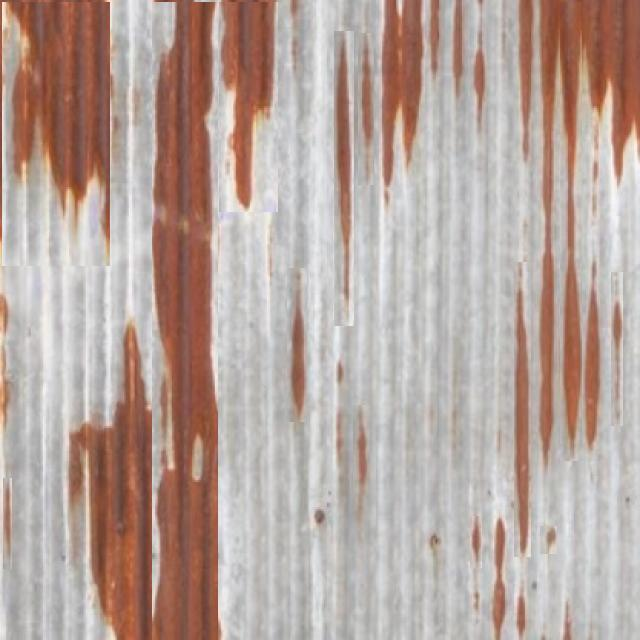Corrosion: (152, 0, 219, 640), (69, 325, 152, 640), (9, 0, 109, 236), (383, 0, 446, 186), (222, 0, 274, 208), (584, 0, 640, 174), (541, 0, 564, 364), (565, 69, 583, 448), (335, 30, 355, 326), (515, 288, 531, 552), (287, 267, 309, 422), (586, 280, 601, 448), (520, 0, 534, 160), (451, 0, 465, 94), (473, 34, 486, 118), (280, 300, 286, 338)
